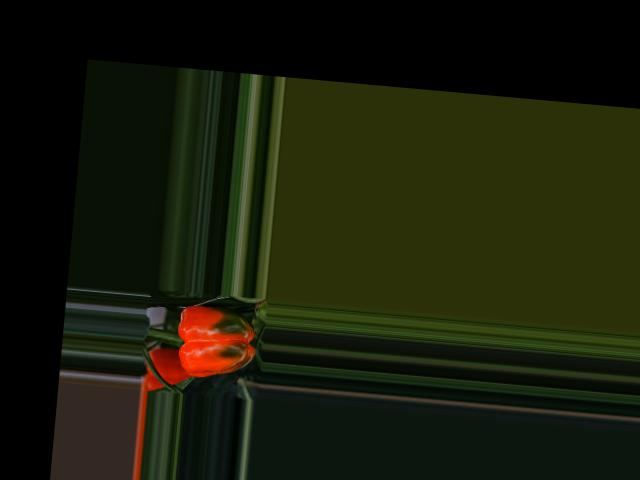bell_pepper: (165, 293, 265, 385)
